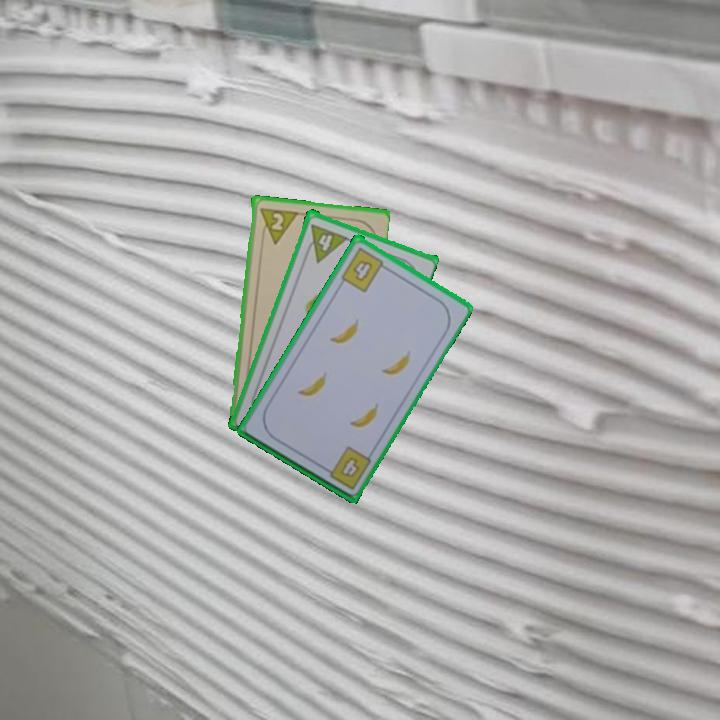2p: (256, 204, 299, 246)
4b: (337, 243, 391, 295), (336, 453, 363, 480)
4p: (301, 220, 350, 264)
